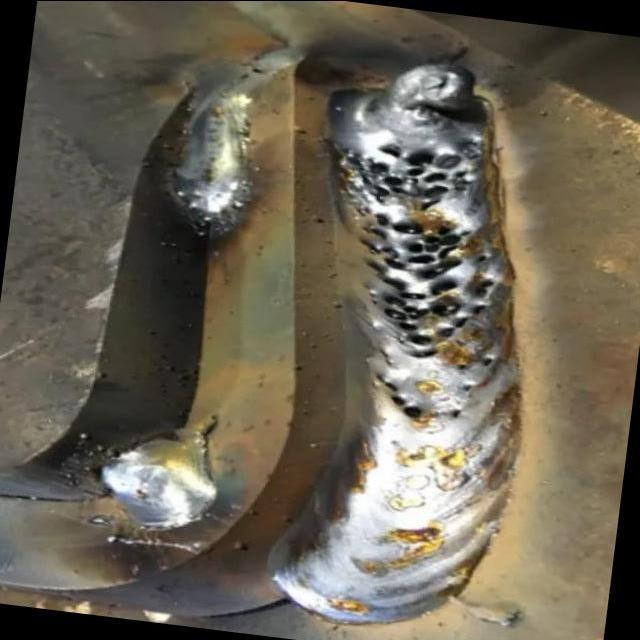defect: (325, 132, 504, 361), (368, 369, 429, 421), (442, 406, 467, 421), (479, 356, 496, 368), (458, 383, 477, 393), (455, 361, 469, 370)
